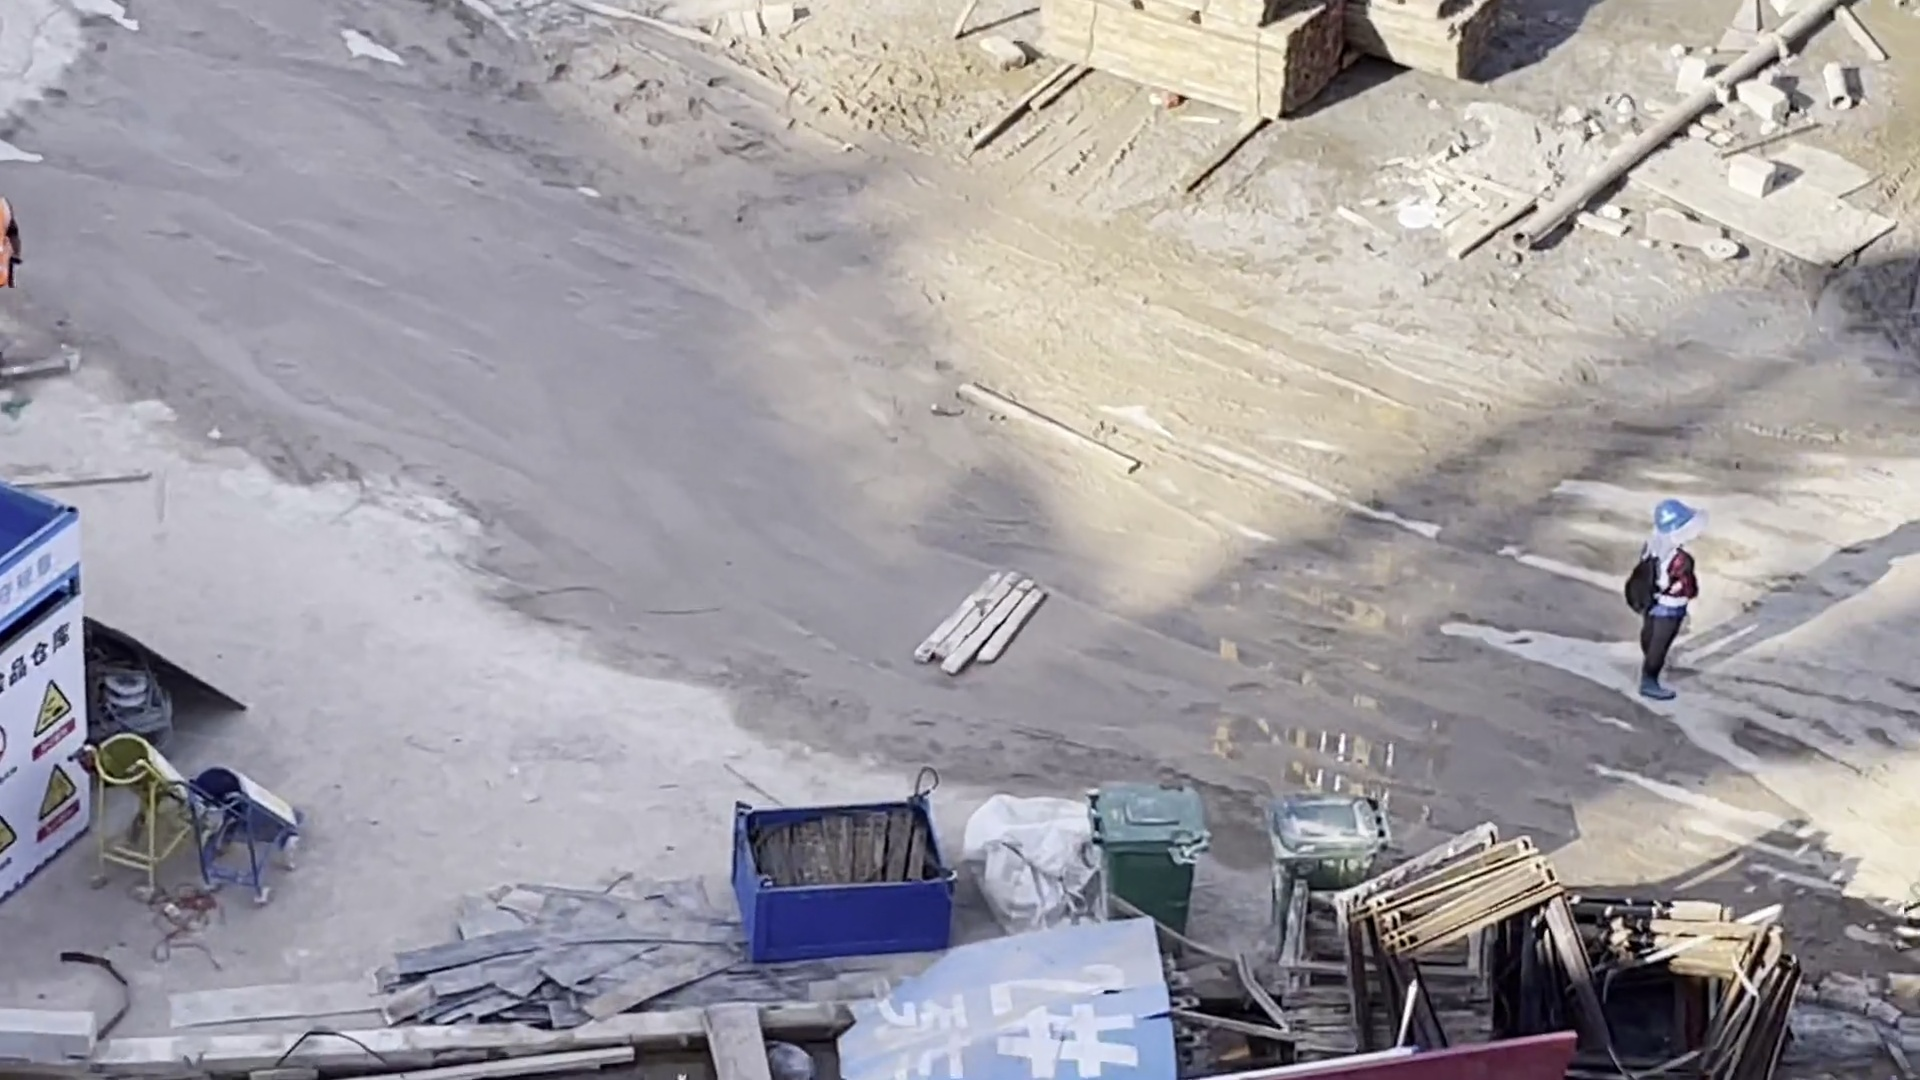helmet: (1656, 499, 1690, 531)
hopper: (729, 799, 952, 966)
person: (1635, 499, 1694, 704)
slogan: (1, 667, 88, 864), (1, 490, 79, 630)
vest: (1644, 551, 1686, 619)
wood: (1043, 1, 1374, 104)
